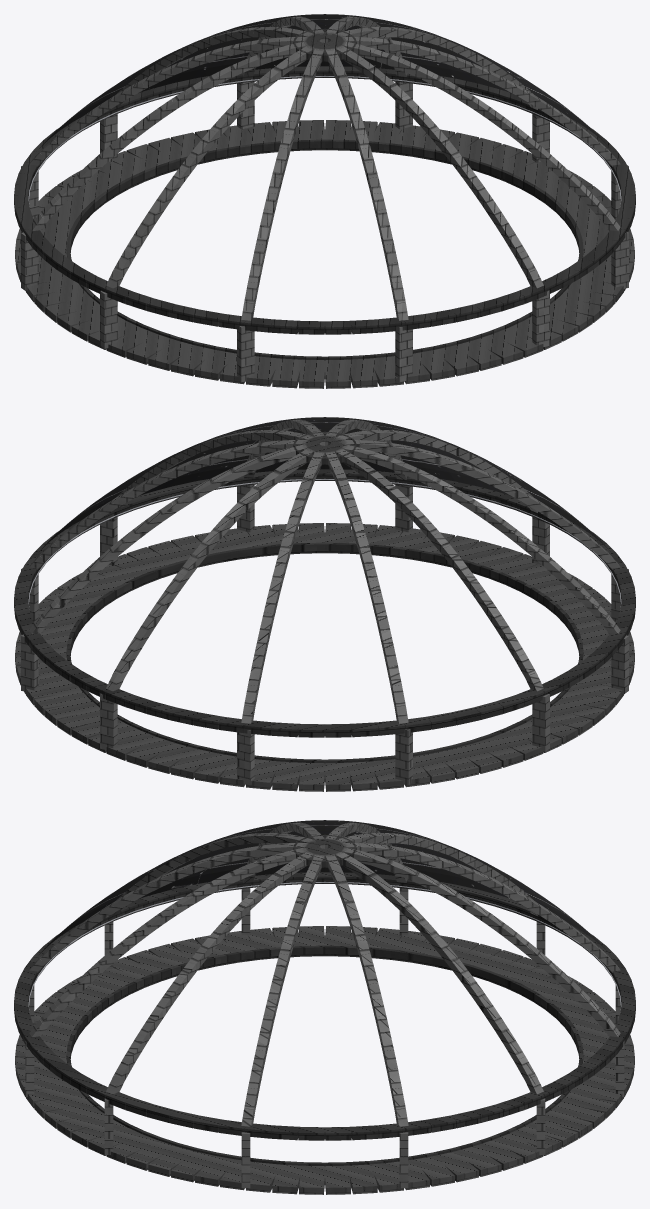
File: chamber_vault.glb
The picture shows the model from 3 angles, top to bottom: view 1: azimuth 30°, elevation 25°; view 2: azimuth 150°, elevation 25°; view 3: azimuth 270°, elevation 25°; orthographic projection.
Parts seen in each view (by area): view 1: ribs, gallery, cornice, gallery_edge, vault, trim; view 2: ribs, gallery, cornice, gallery_edge, vault, trim; view 3: ribs, gallery, cornice, gallery_edge, vault, trim.
Boxes of the visible parts, x1,y1,x2,y2 form: ribs: (21, 16, 628, 382); gallery: (15, 120, 634, 388); cornice: (14, 28, 635, 334); gallery_edge: (66, 139, 583, 360); vault: (39, 14, 610, 148); trim: (28, 76, 621, 203); ribs: (21, 419, 628, 785); gallery: (15, 523, 634, 791); cornice: (14, 431, 635, 737); gallery_edge: (66, 542, 583, 763); vault: (39, 417, 610, 551); trim: (28, 479, 621, 606); ribs: (25, 822, 624, 1188); gallery: (15, 926, 634, 1194); cornice: (14, 834, 635, 1140); gallery_edge: (66, 945, 583, 1166); vault: (39, 820, 610, 954); trim: (28, 882, 621, 1009).
Size of the model in its own units: 56.6 by 21.85 by 56.6.
5 materials, 5 textured.
